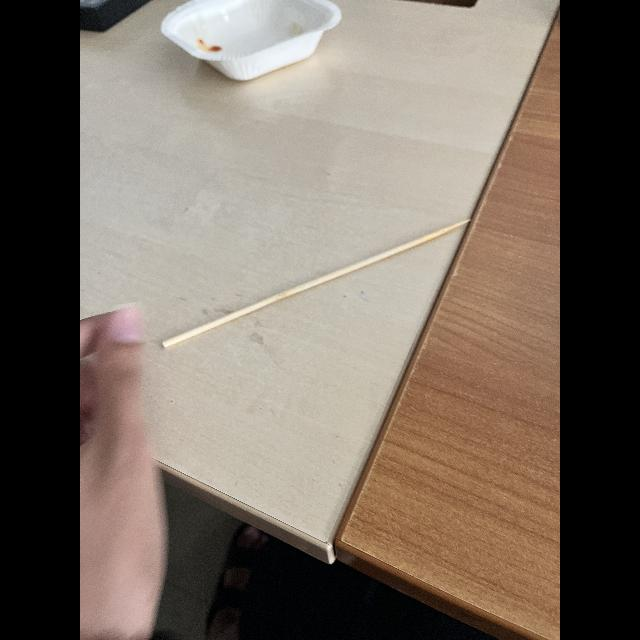cardboard_bowl: (140, 0, 364, 102)
stick: (133, 196, 464, 380)
